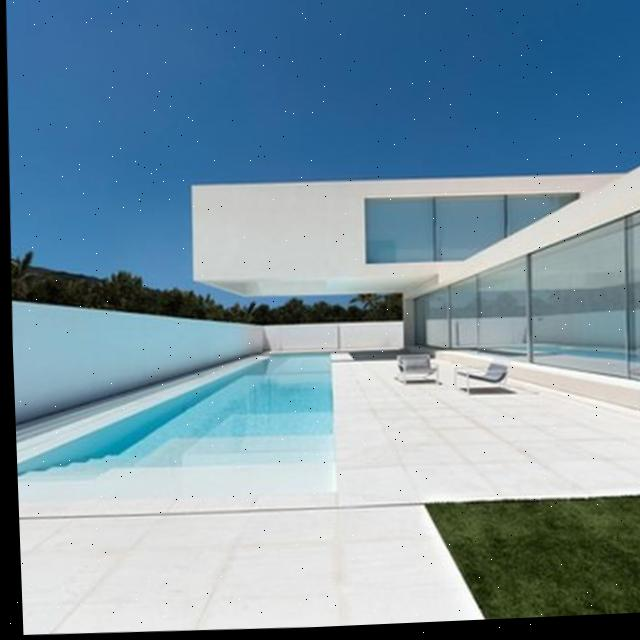building: (184, 162, 640, 440)
